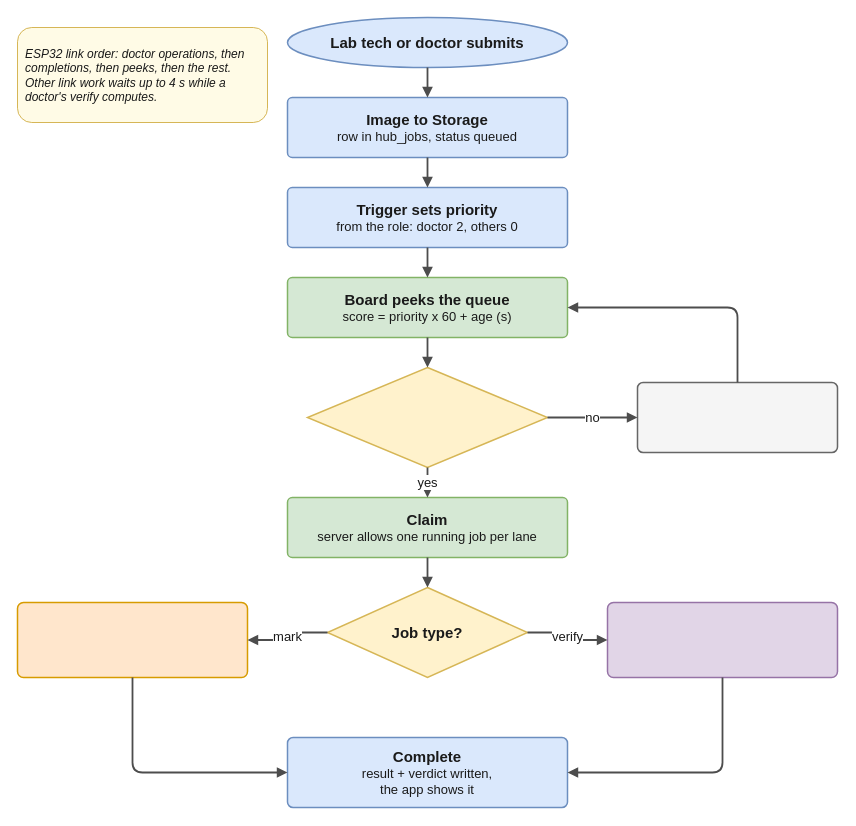
The diagram is 856 pixels wide and 826 high, and some of its shapes have lost their labels. Each missing label, with the box of its shape:
Lane for this job type free?: (306, 366, 548, 468)
mark_image on CPU0 img_work marks, uploads PNG, registers the handle: (16, 601, 248, 678)
verify_image on CPU1 decode, read 4 copies, check the Ascon tag: (606, 601, 838, 678)
Wait and poll again the job keeps aging: (636, 381, 838, 453)
